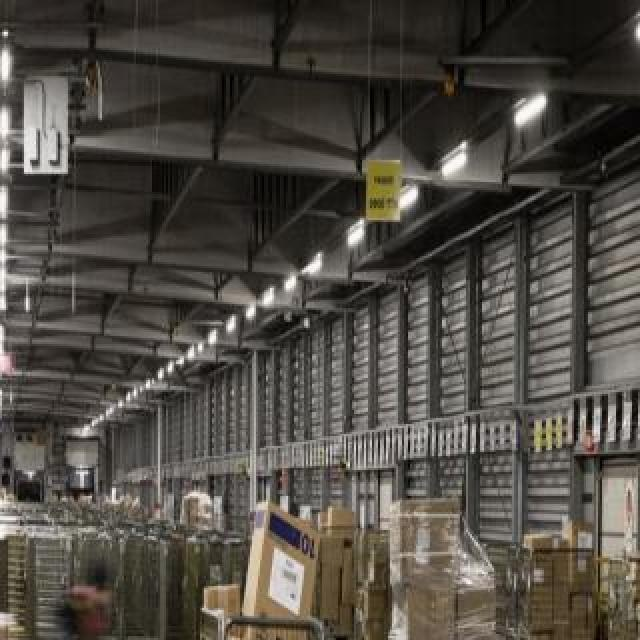fluorescent tube: (498, 93, 566, 143), (431, 141, 471, 183), (385, 180, 423, 220), (335, 228, 378, 256), (297, 249, 326, 287), (0, 42, 22, 82), (262, 280, 287, 313), (280, 265, 302, 300), (0, 100, 18, 142), (0, 144, 20, 176), (0, 180, 16, 220)
